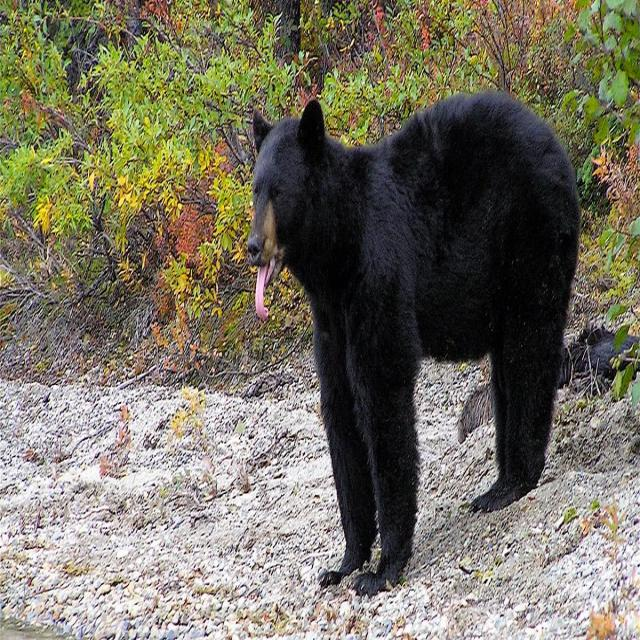Bear: (249, 91, 581, 595)
